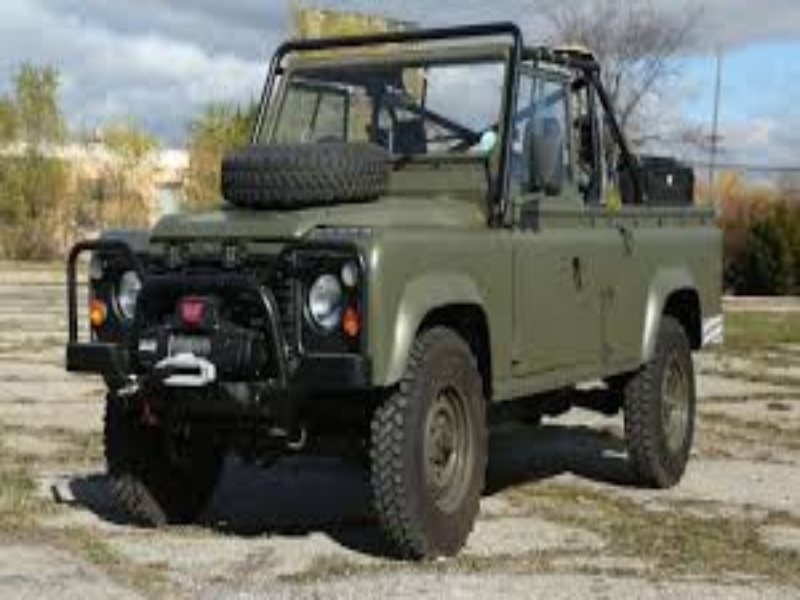jeep: (65, 20, 729, 566)
